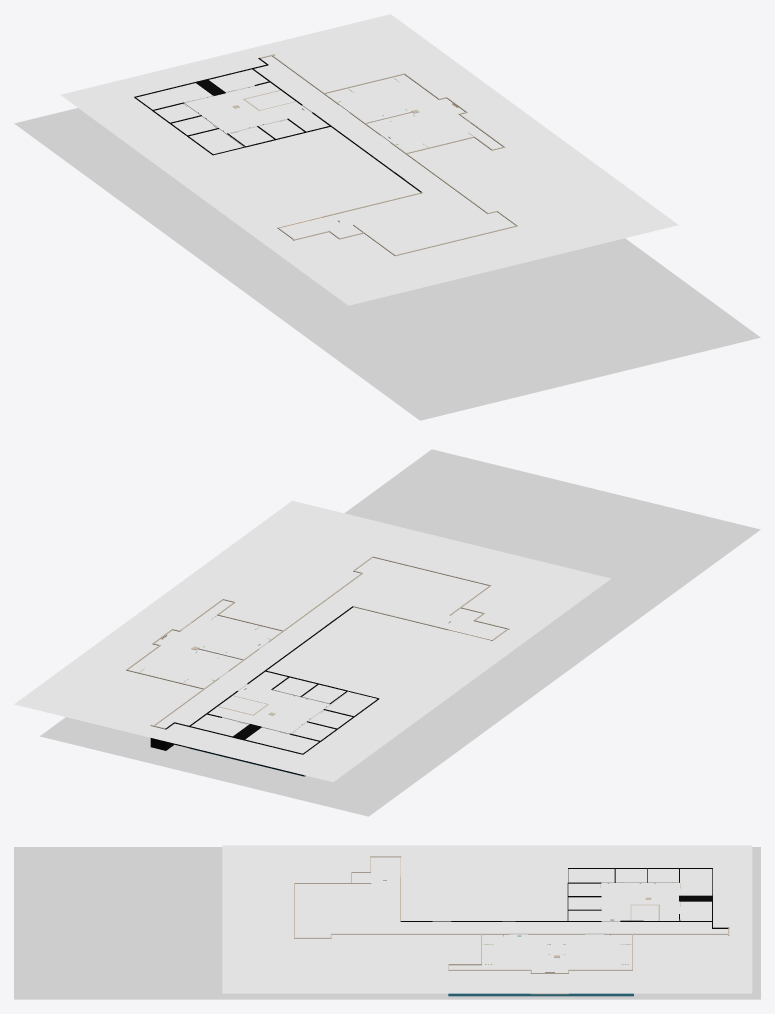
File: PraOperasi dan ICU.fbx
The picture shows the model from 3 angles, top to bottom: view 1: azimuth 30°, elevation 25°; view 2: azimuth 150°, elevation 25°; view 3: azimuth 270°, elevation 25°; orthographic projection. The views are drawn at different scales.
Visible parts, largest first — view 1: Plane.071, Plane.088, Plane.062, Cube.127; view 2: Plane.071, Plane.088, Plane.062, Cube.127; view 3: Plane.071, Plane.088, Plane.062, Cube.127, Plane.049, Cube.172, Plane.054.
Boxes of the visible parts, bbox=[...] form: Plane.071: bbox=[60, 14, 678, 305]; Plane.088: bbox=[217, 238, 760, 420]; Plane.062: bbox=[14, 108, 280, 272]; Cube.127: bbox=[134, 58, 421, 192]; Plane.071: bbox=[14, 500, 611, 781]; Plane.088: bbox=[344, 449, 760, 672]; Plane.062: bbox=[40, 658, 564, 816]; Cube.127: bbox=[150, 606, 379, 775]; Plane.071: bbox=[222, 845, 752, 993]; Plane.088: bbox=[14, 847, 387, 999]; Plane.062: bbox=[387, 847, 760, 999]; Cube.127: bbox=[401, 868, 728, 928]; Plane.049: bbox=[448, 993, 633, 996]; Cube.172: bbox=[295, 933, 509, 938]; Plane.054: bbox=[448, 969, 632, 994].
Bounding box in the file's own units: 13356 × 879 × 25256.
